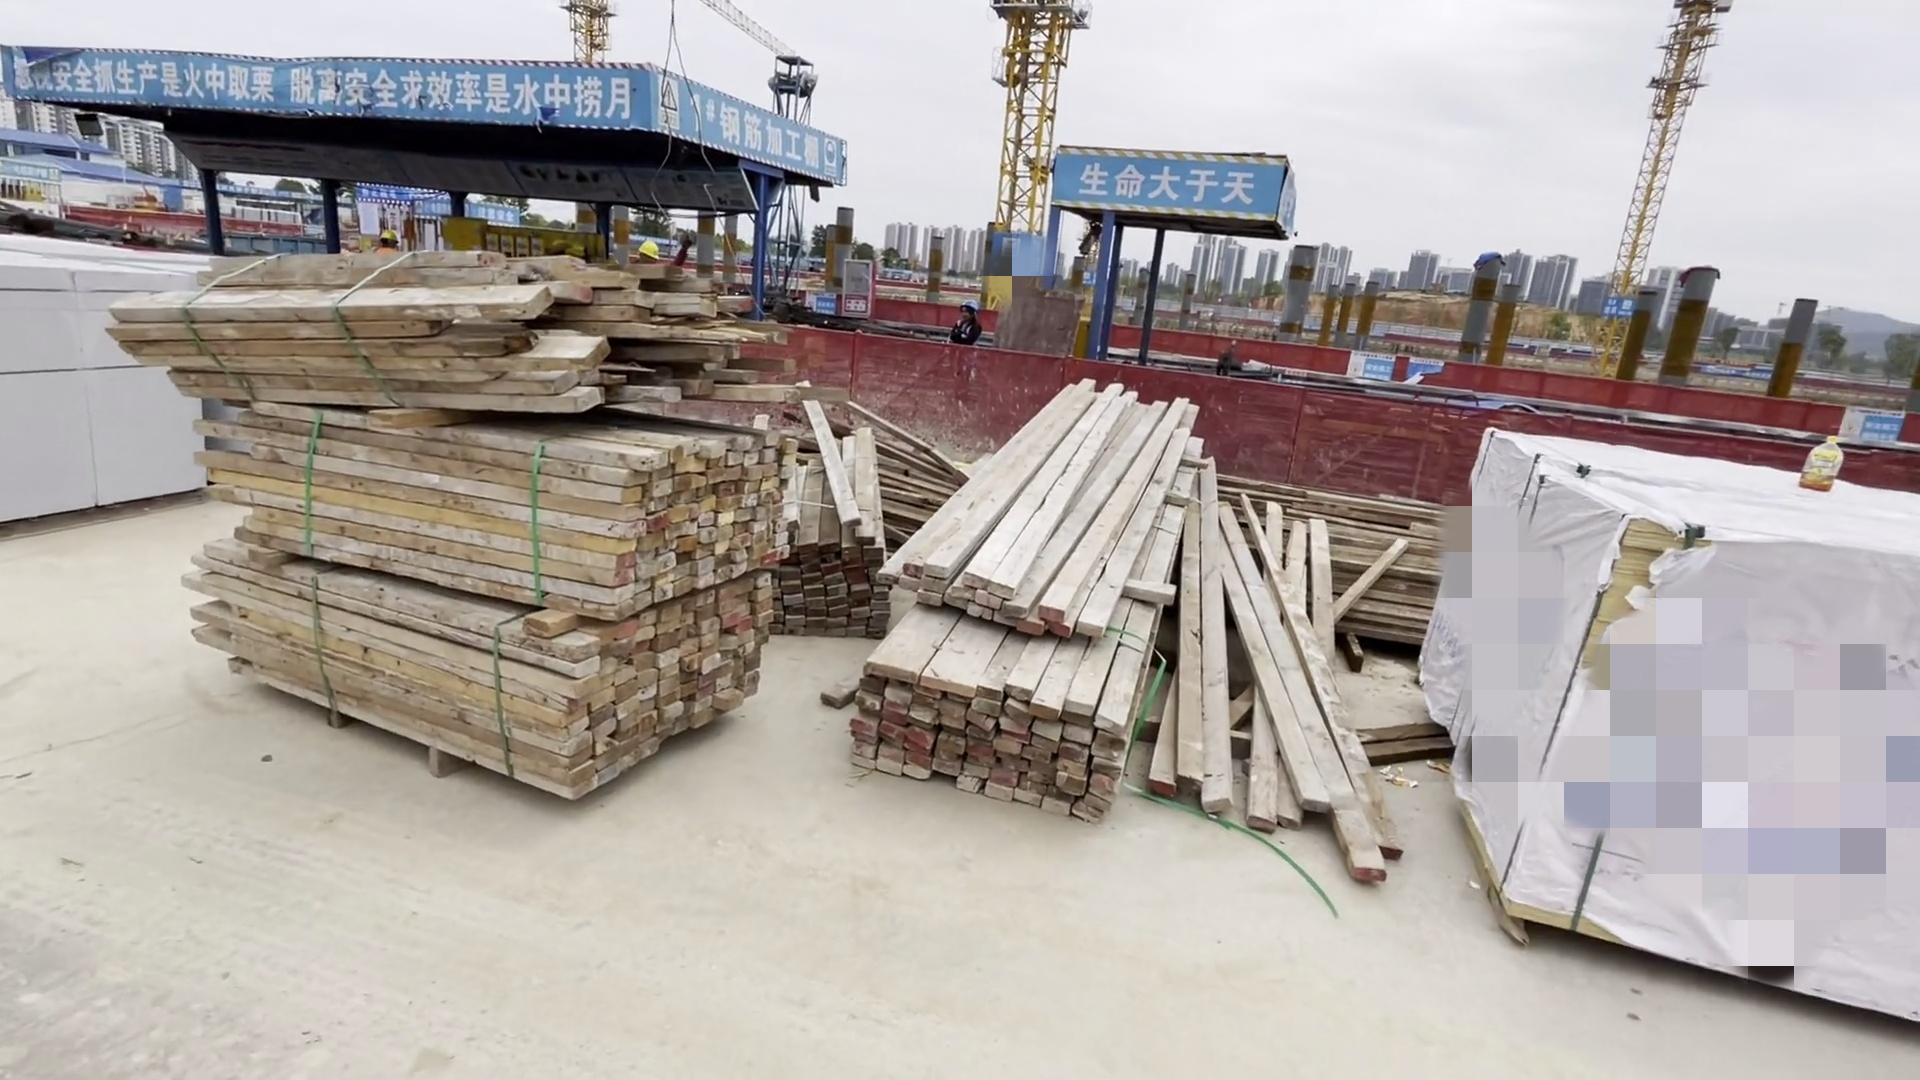slogan: (11, 32, 858, 179), (1056, 149, 1304, 237)
wood: (112, 251, 806, 835), (832, 351, 1418, 914)
